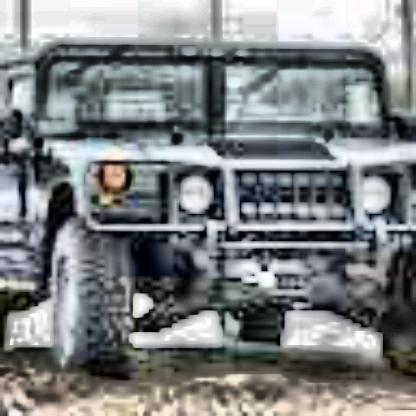AM General Hummer SUV 2000: (18, 40, 416, 382)
